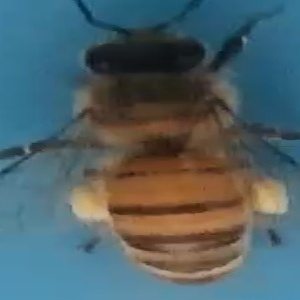bee: (3, 1, 300, 287)
